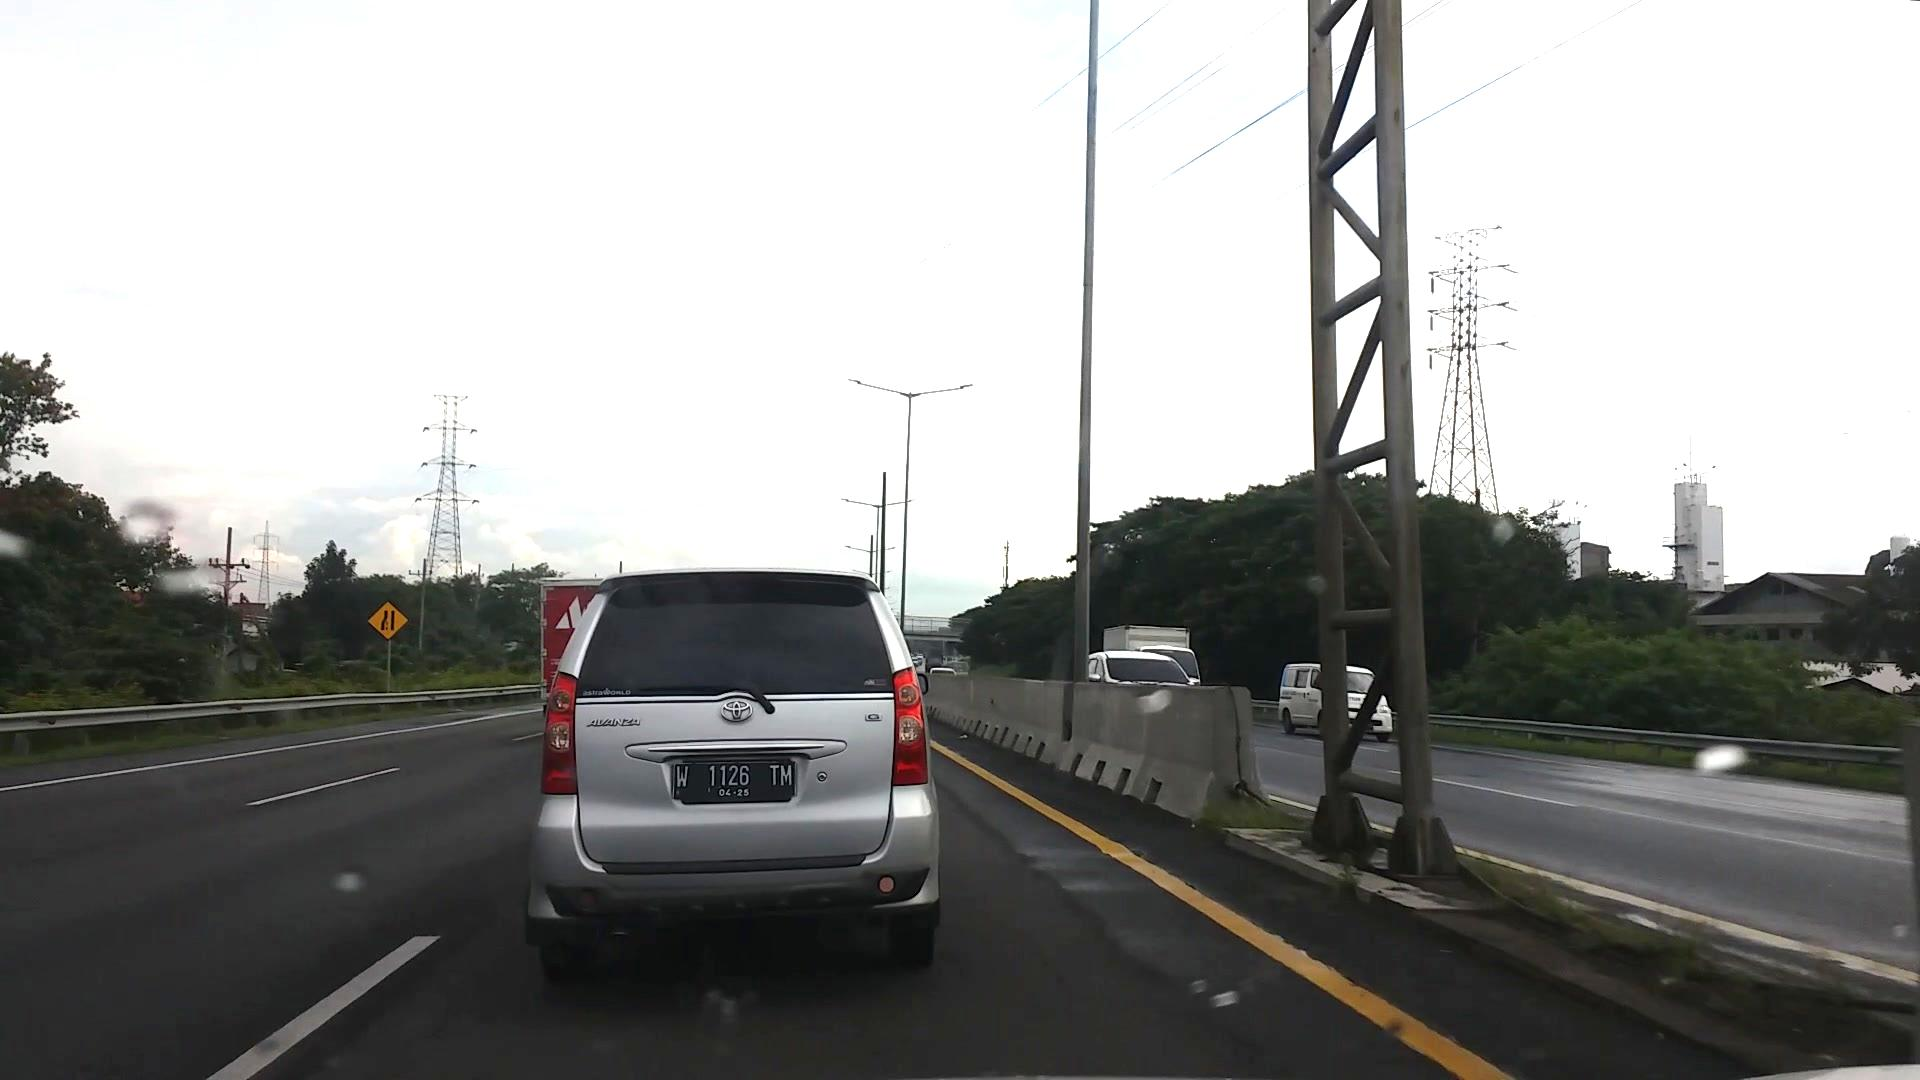plate_positive: (673, 760, 795, 804)
